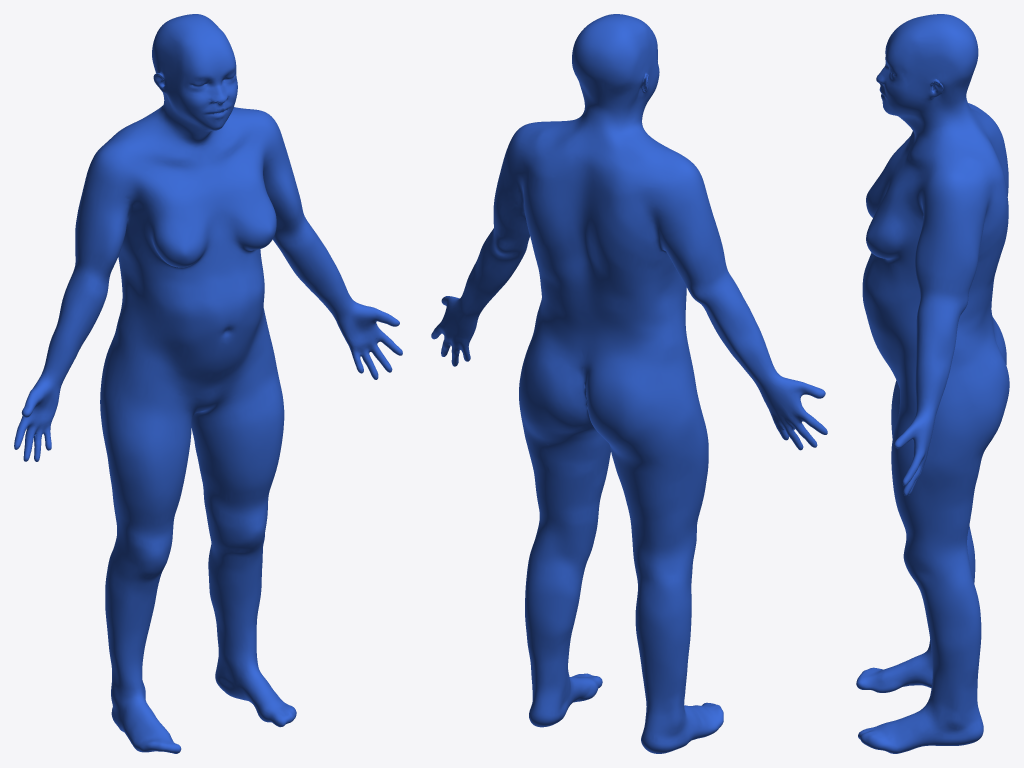
File: 3d-vh-f-skin.glb
3 views of the same model, side by side, from view 1: azimuth 30°, elevation 25°; view 2: azimuth 150°, elevation 25°; view 3: azimuth 270°, elevation 25° (orthographic).
Visible parts, largest first — view 1: VH_F_skin; view 2: VH_F_skin; view 3: VH_F_skin.
Part boxes in pixels (x1,y1,x2,y2): VH_F_skin: [14, 14, 402, 753]; VH_F_skin: [431, 14, 827, 753]; VH_F_skin: [856, 14, 1009, 753].
Bounding box in the file's own units: 0.9674 × 1.67 × 0.3292.
